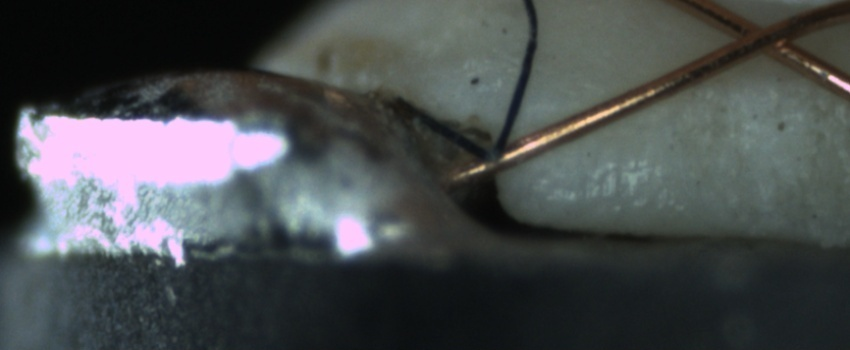CL: (712, 4, 815, 66)
